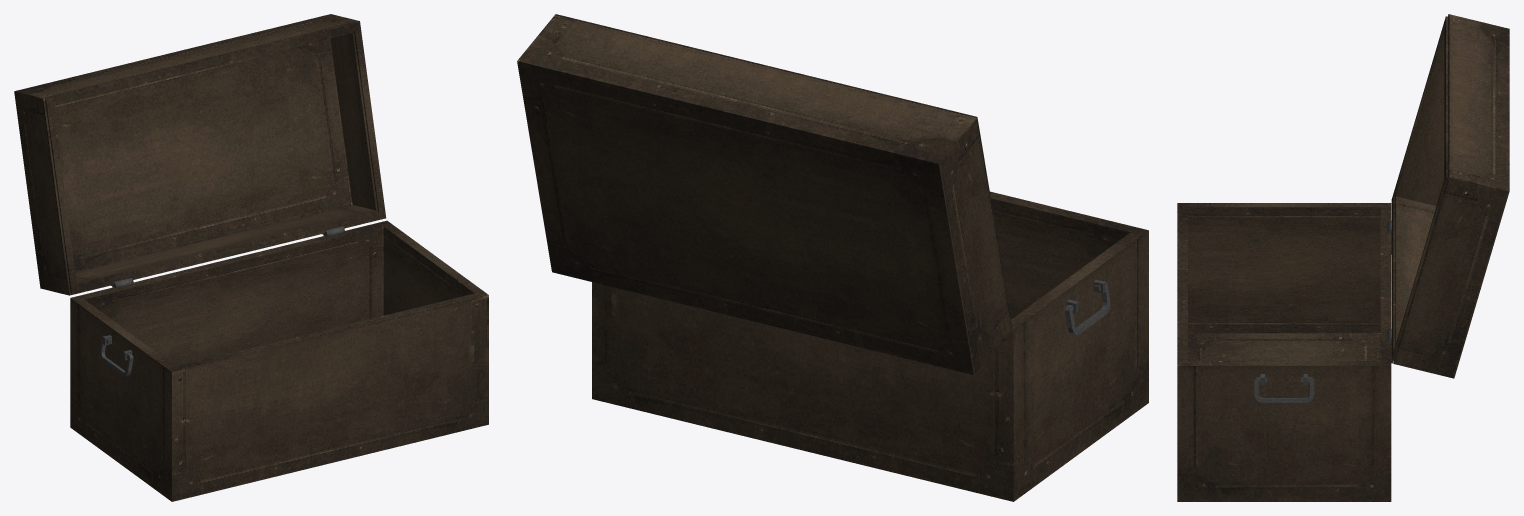
The model's file is wooden_crate_2_c.glb.
3 views of the same model, side by side, from view 1: azimuth 30°, elevation 25°; view 2: azimuth 150°, elevation 25°; view 3: azimuth 270°, elevation 25° (orthographic). The views are drawn at different scales.
Parts seen in each view (by area): view 1: wooden_crate_2_c, wooden_crate_2_c_lid; view 2: wooden_crate_2_c_lid, wooden_crate_2_c; view 3: wooden_crate_2_c, wooden_crate_2_c_lid.
Boxes of the visible parts, left/top/right/bottom form: wooden_crate_2_c: left=70, top=220, right=488, bottom=501; wooden_crate_2_c_lid: left=14, top=14, right=386, bottom=295; wooden_crate_2_c_lid: left=517, top=14, right=1012, bottom=374; wooden_crate_2_c: left=592, top=191, right=1148, bottom=501; wooden_crate_2_c: left=1177, top=203, right=1392, bottom=501; wooden_crate_2_c_lid: left=1391, top=14, right=1509, bottom=378.
Size of the model in its own units: 0.9492 by 0.8393 by 0.7768.
Materials: 1 (1 with a texture image).
